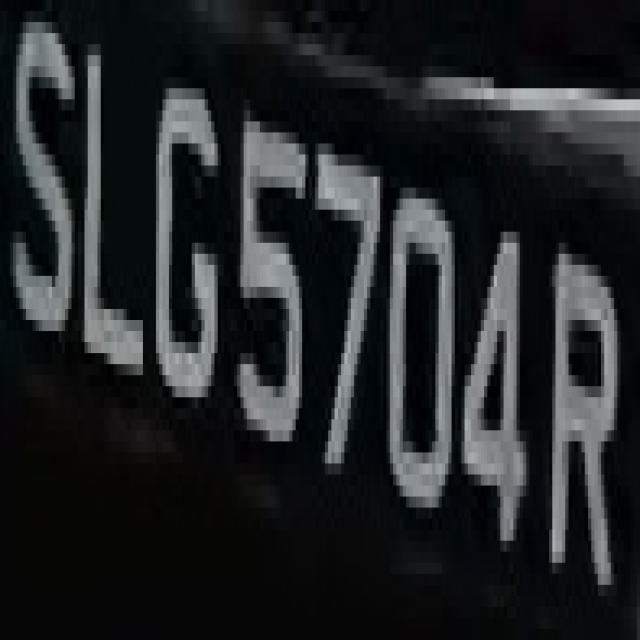0: (377, 144, 461, 540)
4: (455, 176, 533, 585)
5: (234, 88, 302, 474)
7: (296, 132, 380, 530)
G: (146, 44, 228, 430)
L: (72, 22, 150, 430)
R: (533, 199, 620, 607)
S: (10, 0, 74, 364)
